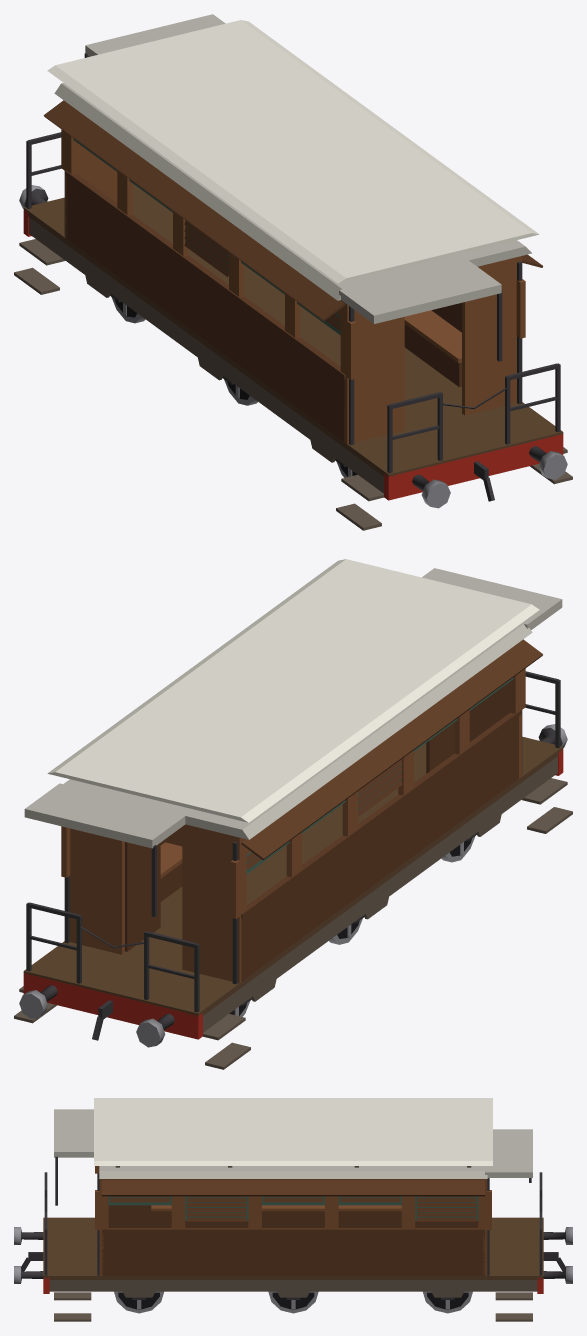
Rendered from carriage_third.glb.
The picture shows the model from 3 angles, top to bottom: view 1: azimuth 30°, elevation 25°; view 2: azimuth 150°, elevation 25°; view 3: azimuth 270°, elevation 25°; orthographic projection. The views are drawn at different scales.
Parts seen in each view (by area): view 1: Body, Roof; view 2: Body, Roof; view 3: Body, Roof, Wheel2, Wheel1, Wheel3.
Boxes of the visible parts, bbox=[...] form: Body: bbox=[14, 100, 572, 530]; Roof: bbox=[47, 14, 539, 361]; Body: bbox=[14, 639, 572, 1069]; Roof: bbox=[24, 559, 562, 916]; Body: bbox=[14, 1166, 572, 1321]; Roof: bbox=[54, 1098, 532, 1205]; Wheel2: bbox=[268, 1291, 318, 1313]; Wheel1: bbox=[423, 1291, 472, 1313]; Wheel3: bbox=[114, 1291, 163, 1313].
Size of the model in its own units: 3.28 by 3.43 by 10.5.
